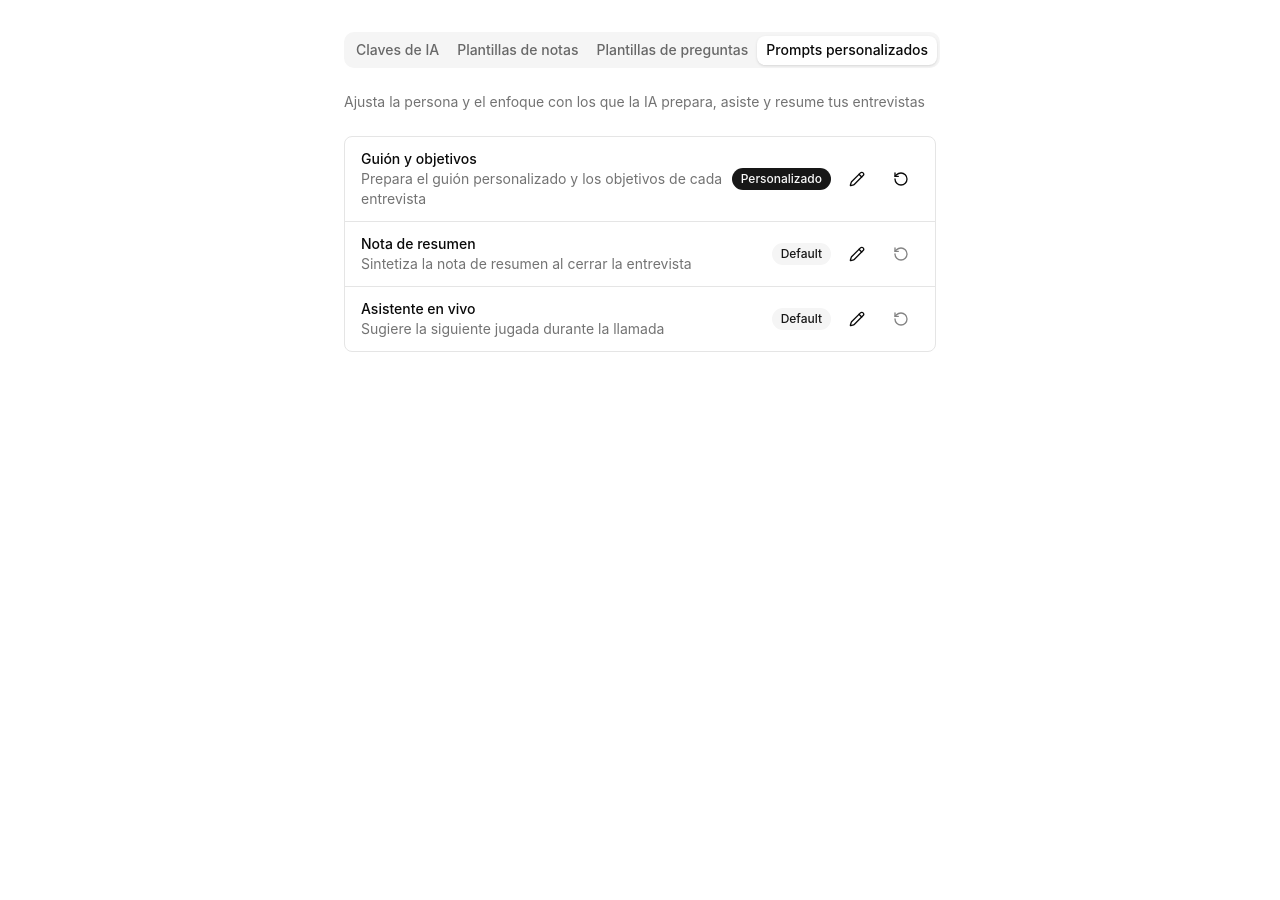
CustomPromptsTab › resetting a prompt to default › opens the "Restablecer prompt" AlertDialog naming the prompt and its consequence
The width and height of the screenshot is (1280, 900).
Click the button named "Restablecer prompt" in the row of "Guión y objetivos" at x=901, y=179, box [883,161,919,197]
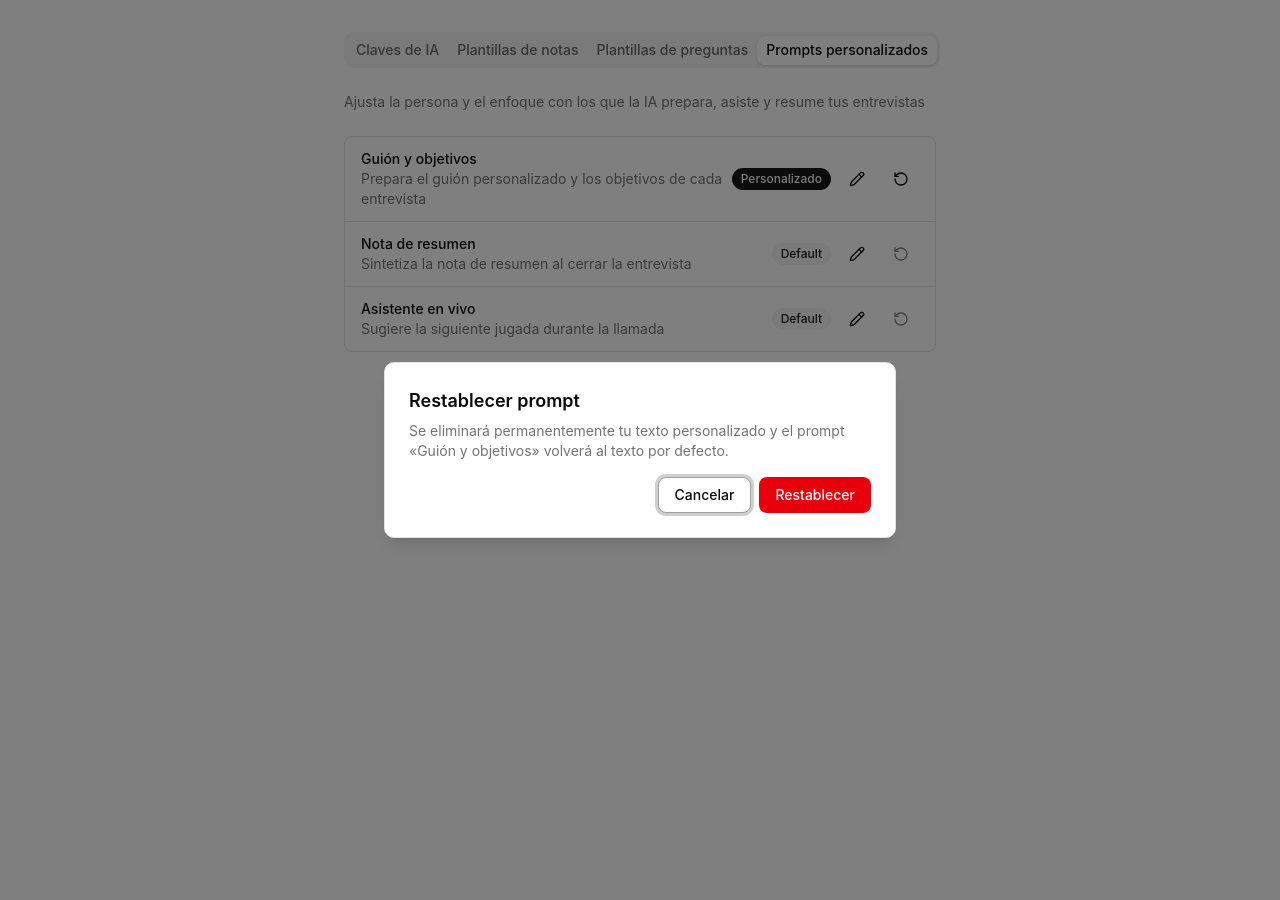
Expected: the heading "Restablecer prompt" is shown, [409,387,580,415]
Expected: the text "Se eliminará permanentemente tu texto personalizado y el prompt «Guión y objetivos» volverá al texto por defecto." is shown, [409,421,871,461]
Expected: the button "Cancelar" is shown, [658,477,751,513]
